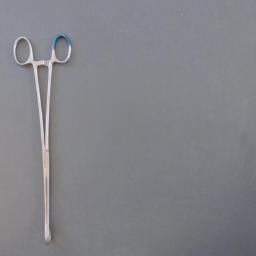Sponge Forceps: (7, 28, 75, 250)
